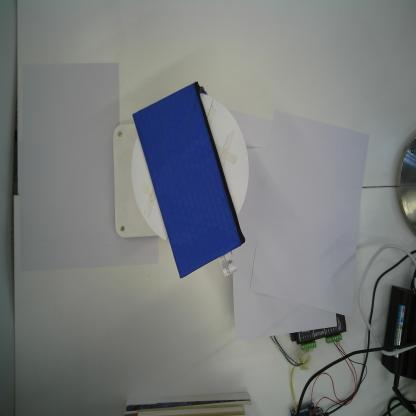Stationery: (130, 79, 246, 283)
